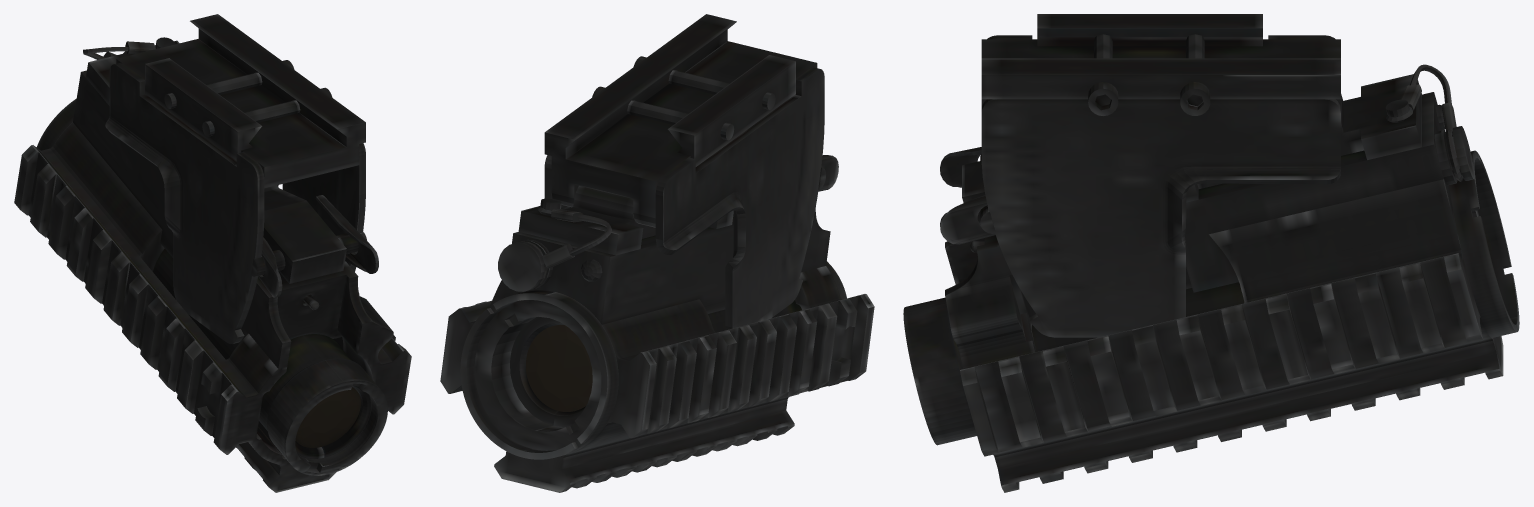
3 renders of one model, left to right at view 1: azimuth 30°, elevation 25°; view 2: azimuth 150°, elevation 25°; view 3: azimuth 270°, elevation 25°, orthographic. The views are drawn at different scales.
Parts seen in each view (by area): view 1: TW_6284bd5f95250a29bc628a30_range250_PZ_Import; view 2: TW_6284bd5f95250a29bc628a30_range250_PZ_Import; view 3: TW_6284bd5f95250a29bc628a30_range250_PZ_Import.
Part boxes in pixels (x1,y1,x2,y2): TW_6284bd5f95250a29bc628a30_range250_PZ_Import: (14,14,411,492); TW_6284bd5f95250a29bc628a30_range250_PZ_Import: (440,14,874,492); TW_6284bd5f95250a29bc628a30_range250_PZ_Import: (903,14,1519,492).
Bounding box in the file's own units: 0.0322 × 0.0768 × 0.0597.
1 material, 1 textured.
